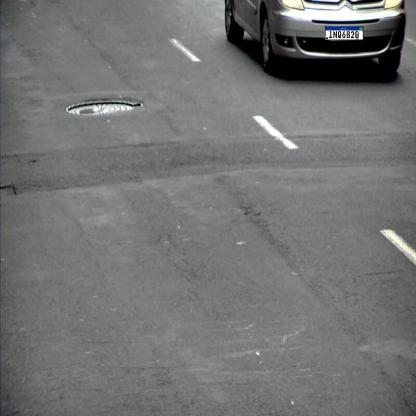PlacaM: (325, 27, 363, 40)
